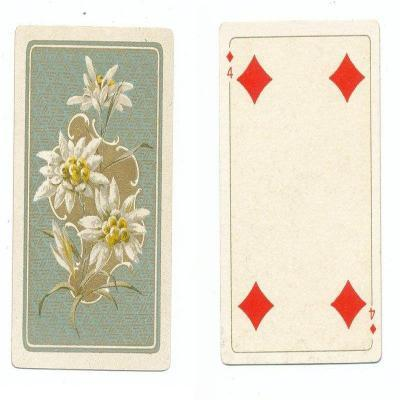graphics: (218, 19, 384, 367), (10, 25, 175, 373)
